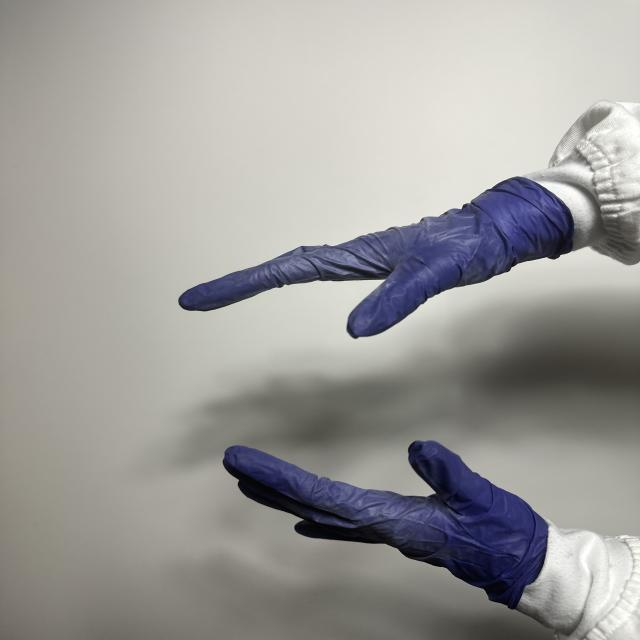gloves_contaminated: (179, 178, 573, 338), (223, 441, 547, 608)
